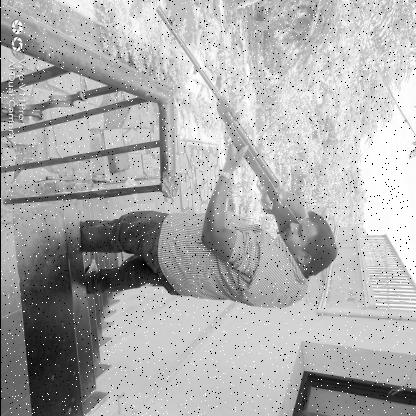rifle: (154, 4, 300, 238)
